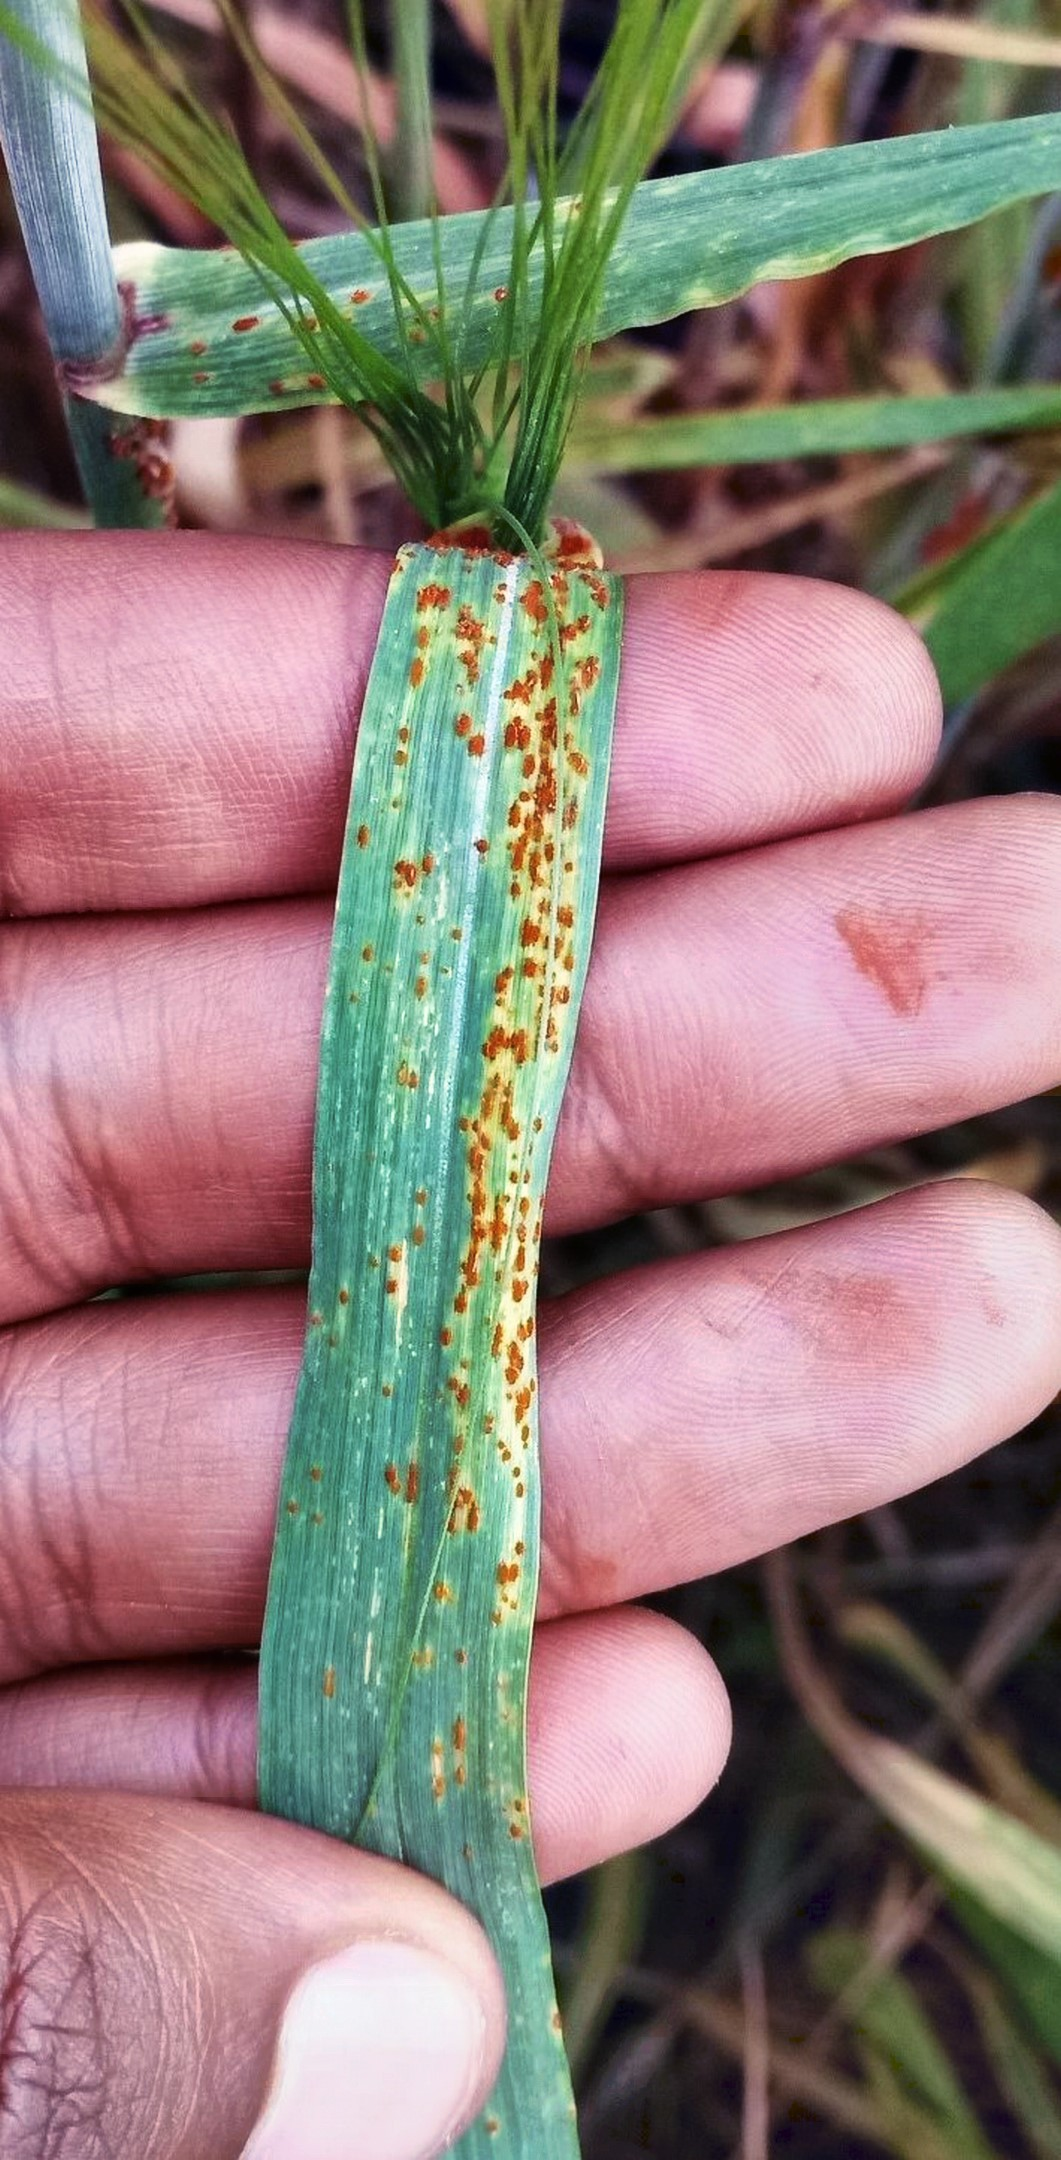Leaf Rust: (289, 529, 650, 1605)
